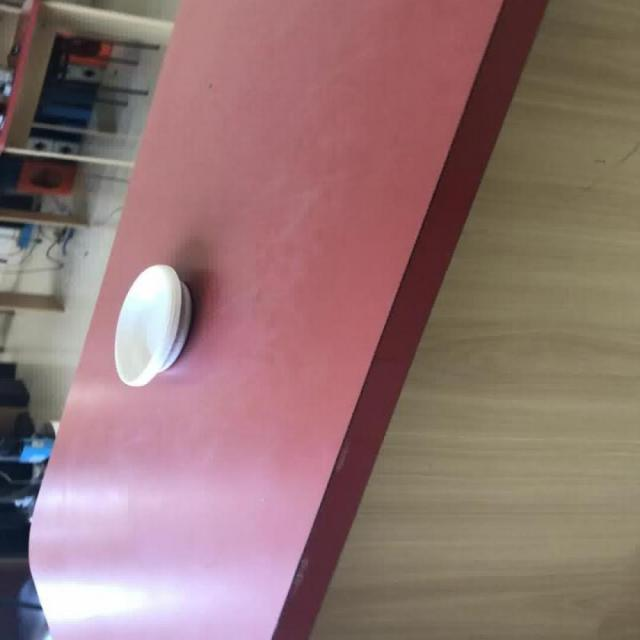Plate: (112, 263, 192, 386)
